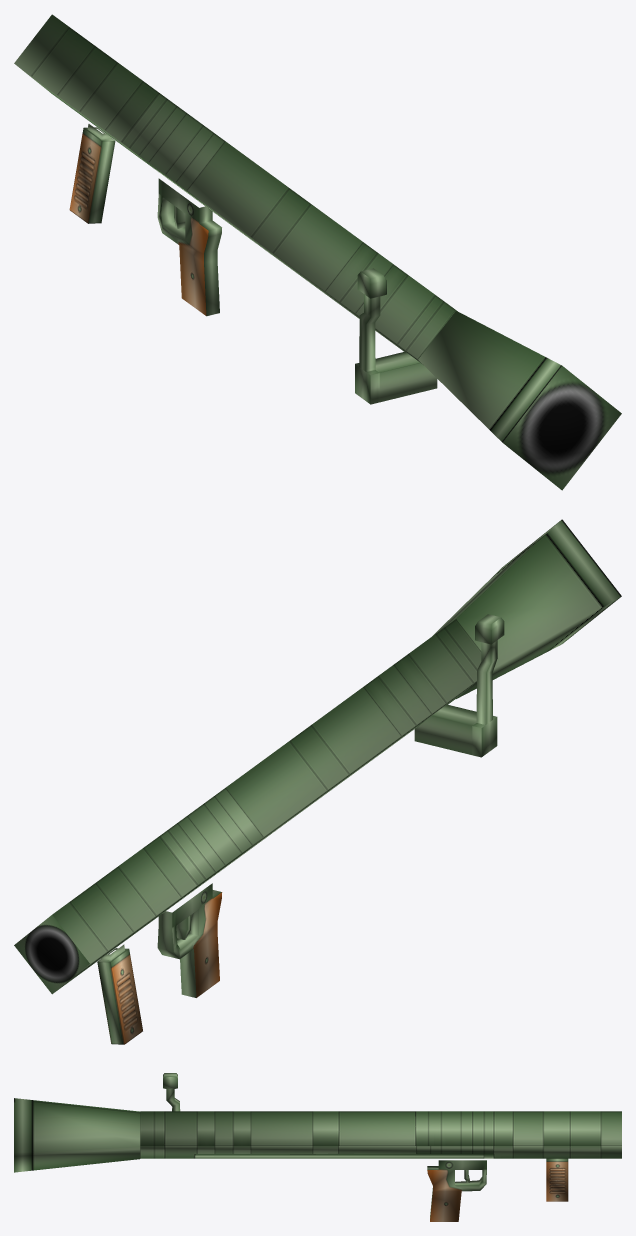
The model's file is gustaf.glb.
3 renders of one model, top to bottom at view 1: azimuth 30°, elevation 25°; view 2: azimuth 150°, elevation 25°; view 3: azimuth 270°, elevation 25°, orthographic. The views are drawn at different scales.
Visible parts, largest first — view 1: body; view 2: body; view 3: body.
Part boxes in pixels (x1,y1,x2,y2): body: [14, 14, 621, 490]; body: [14, 519, 621, 1044]; body: [14, 1073, 621, 1221].
Size of the model in its own units: 0.1862 by 0.3015 by 1.3.
1 material, 1 textured.
